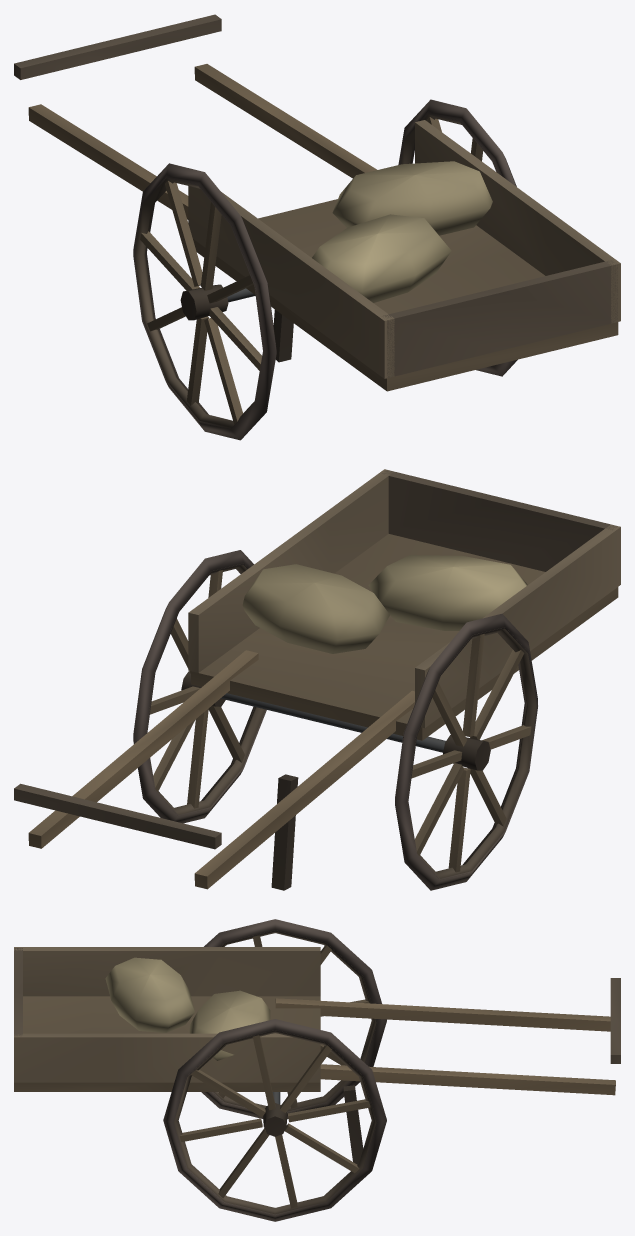
The model's file is m01_prop_hand_cart_lod0.glb.
The picture shows the model from 3 angles, top to bottom: view 1: azimuth 30°, elevation 25°; view 2: azimuth 150°, elevation 25°; view 3: azimuth 270°, elevation 25°; orthographic projection. The views are drawn at different scales.
Parts seen in each view (by area): view 1: hand_cart; view 2: hand_cart; view 3: hand_cart.
Part boxes in pixels (box(x1,y1,x2,y2)): hand_cart: box(14, 14, 620, 440); hand_cart: box(14, 469, 620, 890); hand_cart: box(14, 919, 620, 1221).
Bounding box in the file's own units: 1.17 × 0.986 × 2.67.
